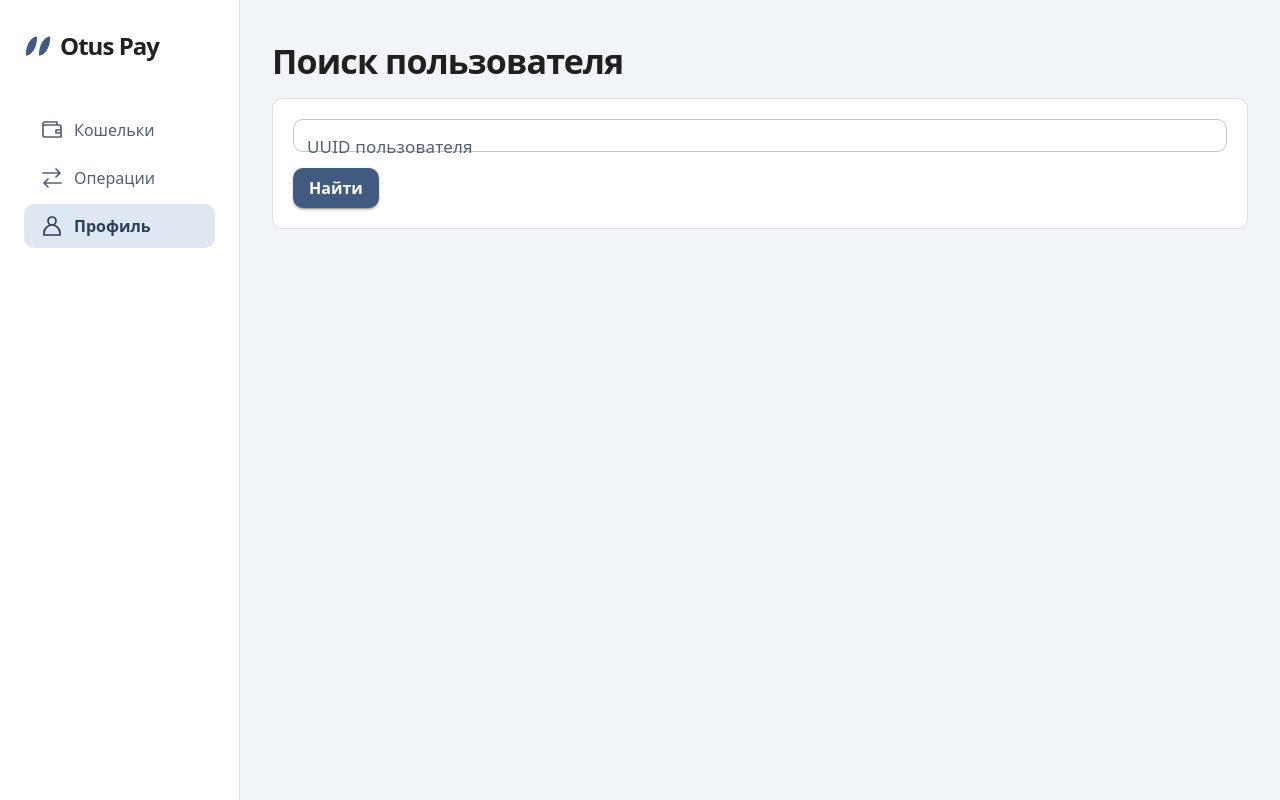
Test case: AdminUserPage › shows the lookup error when the requested user does not exist
Type "f6d4294a-5d21-48d8-84d6-eabfe625e677" into the field labelled "UUID пользователя" at (760,136), box [293, 119, 1227, 152]
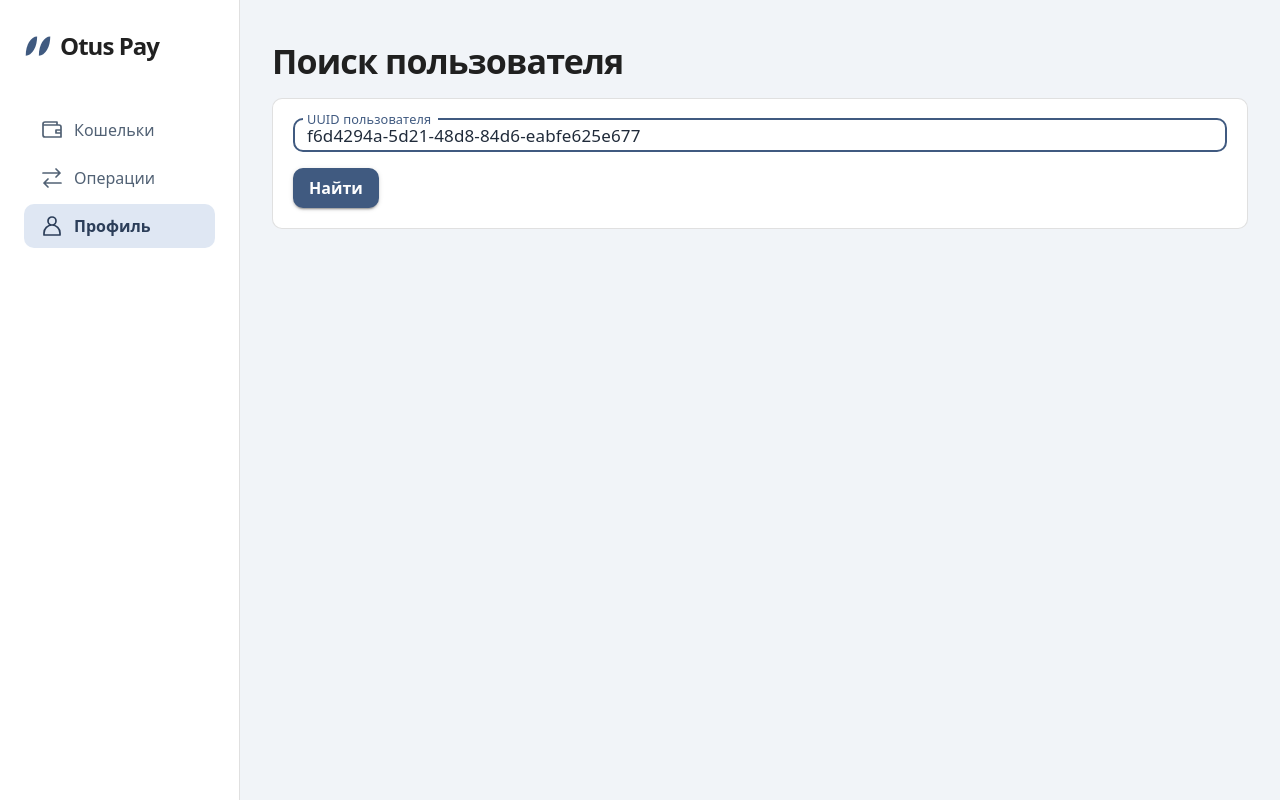
Click the button "Найти" at (336,188), box [293, 168, 379, 208]
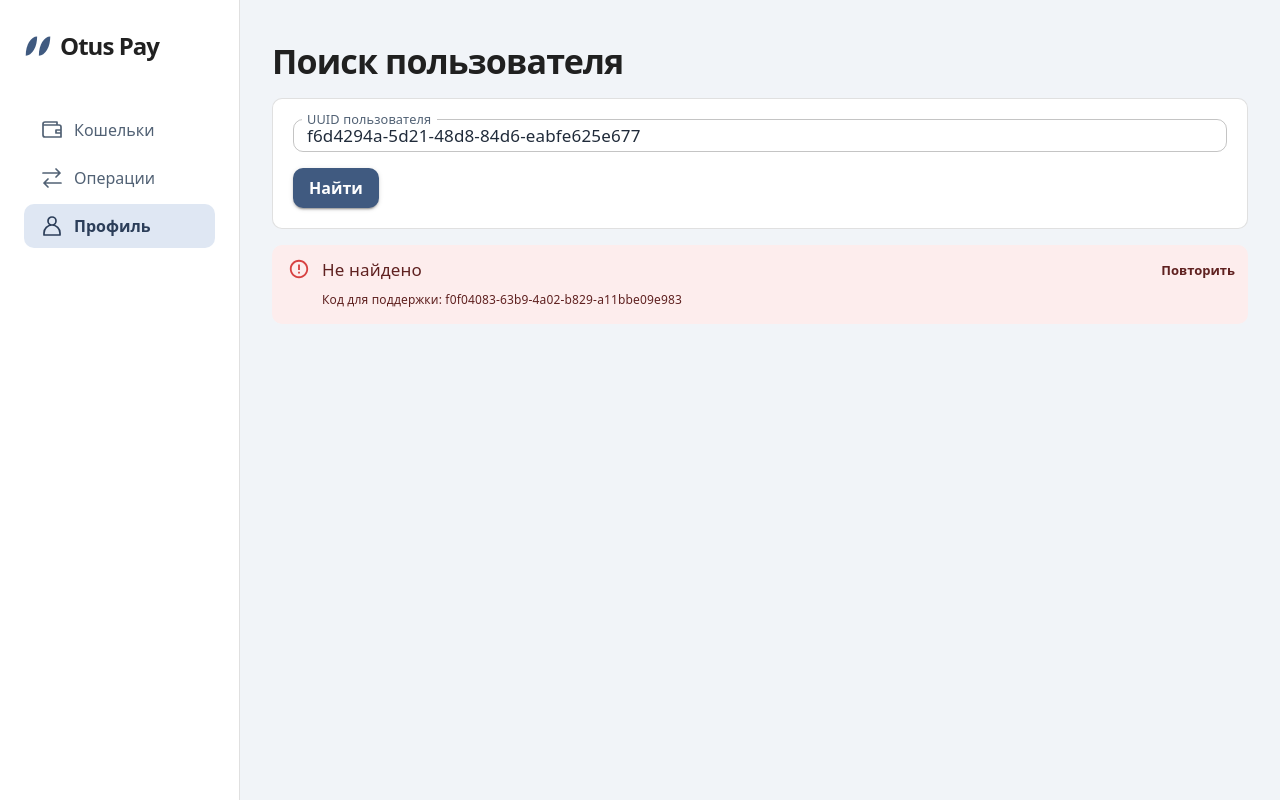
Check: the text "Не найдено" is shown, box [322, 258, 422, 281]
